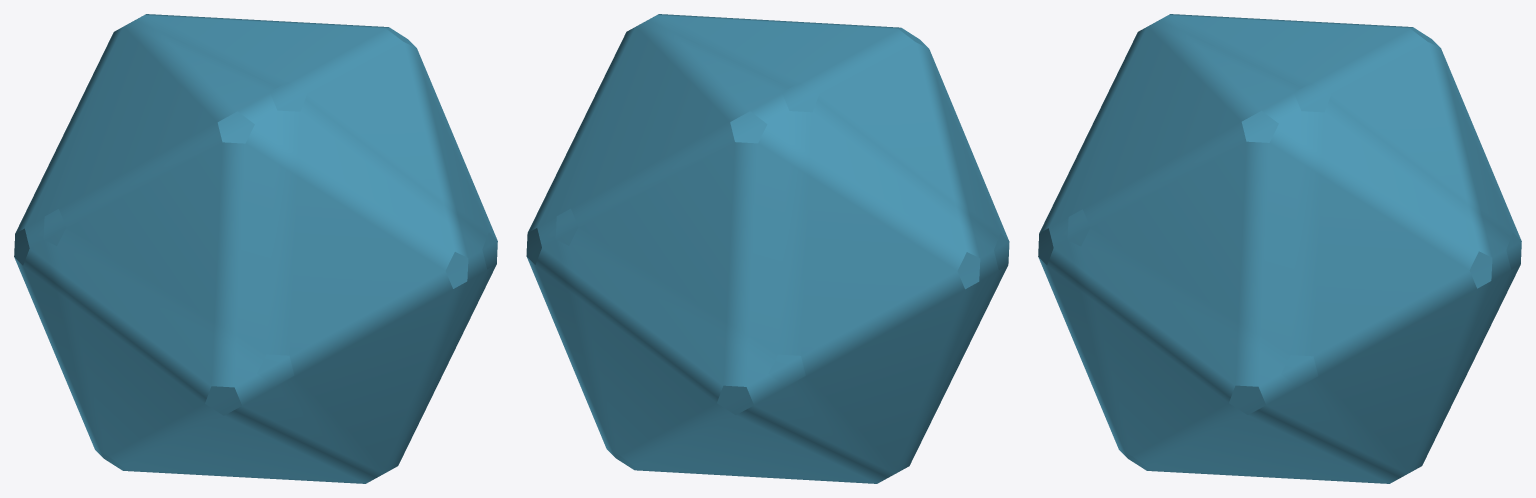
Rendered from crystal_icosohedron.fbx.
3 renders of one model, left to right at view 1: azimuth 30°, elevation 25°; view 2: azimuth 150°, elevation 25°; view 3: azimuth 270°, elevation 25°, orthographic.
Parts seen in each view (by area): view 1: icosohedron; view 2: icosohedron; view 3: icosohedron.
Boxes of the visible parts, x1,y1,x2,y2 form: icosohedron: (14,14,497,483); icosohedron: (526,14,1009,483); icosohedron: (1038,14,1521,483).
Bounding box in the file's own units: 42.65 × 36.21 × 40.21.
